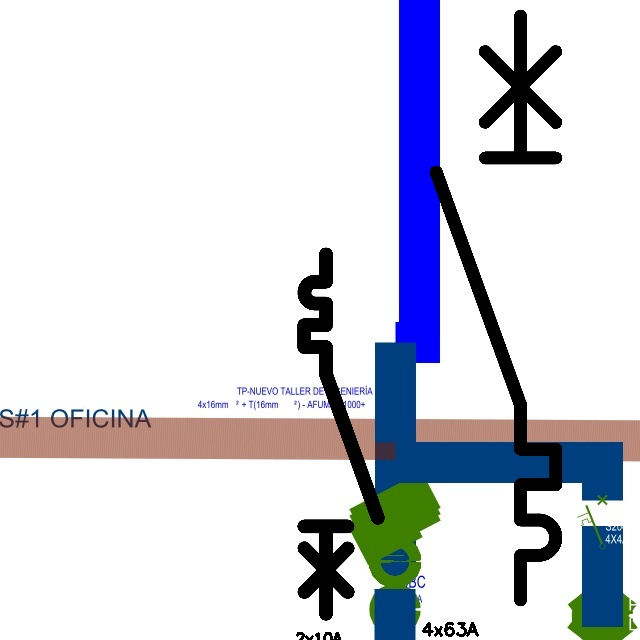interruptor_termomagnetico: (421, 1, 571, 615), (295, 245, 387, 622)
